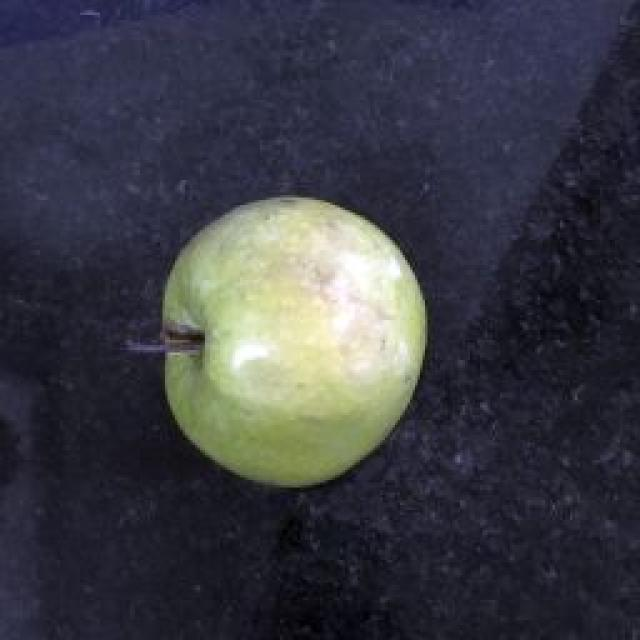Good_Apple: (160, 198, 430, 490)
